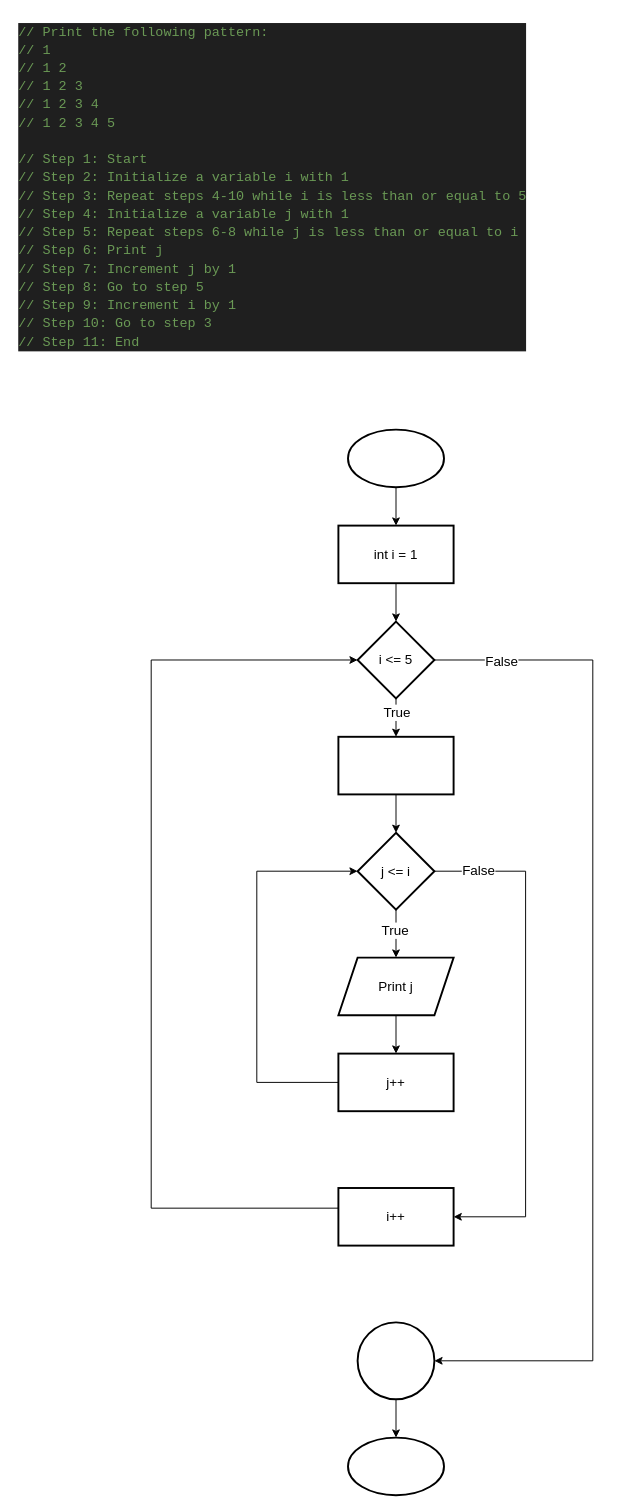
Some shapes in this 617 by 1512 pixel diagram are drawn without their labels. Each missing label, with the box of its shape:
End: (347, 1436, 444, 1496)
int j = 1: (337, 735, 454, 795)
Start: (347, 428, 444, 488)
